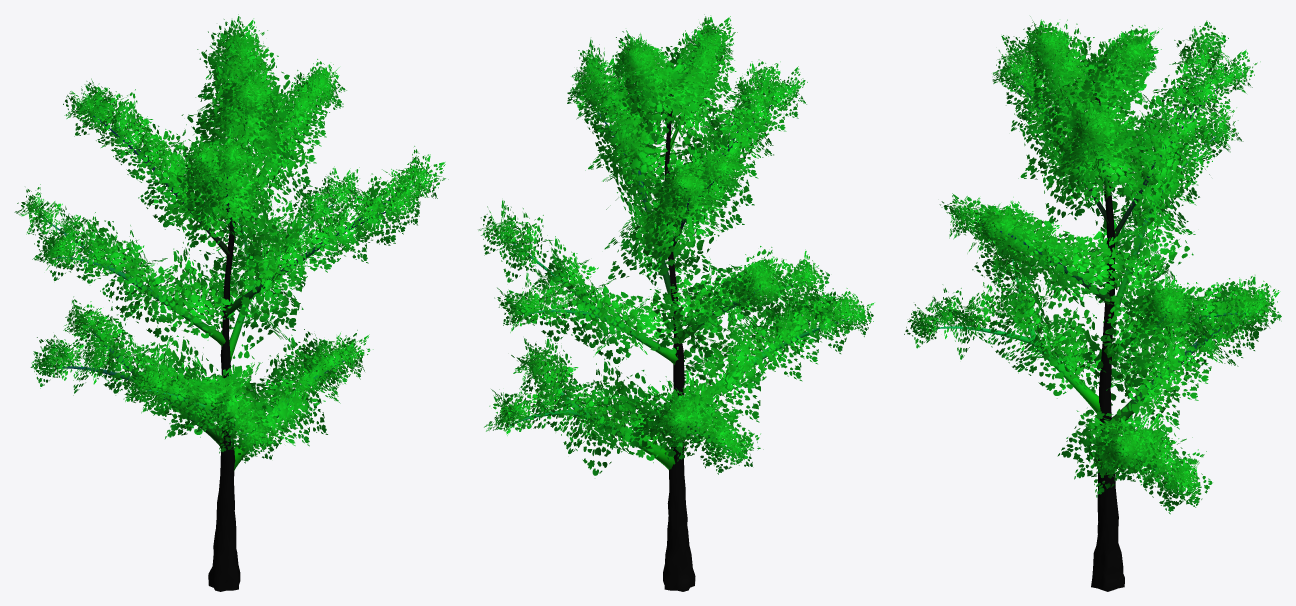
File: Tree_Test1.fbx
3 renders of one model, left to right at view 1: azimuth 30°, elevation 25°; view 2: azimuth 150°, elevation 25°; view 3: azimuth 270°, elevation 25°, orthographic. The views are drawn at different scales.
Parts seen in each view (by area): view 1: untitled-1_1, _0; view 2: untitled-1_1, _0; view 3: untitled-1_1, _0.
Part boxes in pixels (bbox=[...]): untitled-1_1: bbox=[14, 14, 448, 463]; _0: bbox=[41, 68, 414, 591]; untitled-1_1: bbox=[478, 14, 874, 475]; _0: bbox=[500, 88, 848, 591]; untitled-1_1: bbox=[904, 16, 1281, 514]; _0: bbox=[932, 56, 1256, 591].
Size of the model in its own units: 383 by 592 by 353.
1 material, 1 textured.
